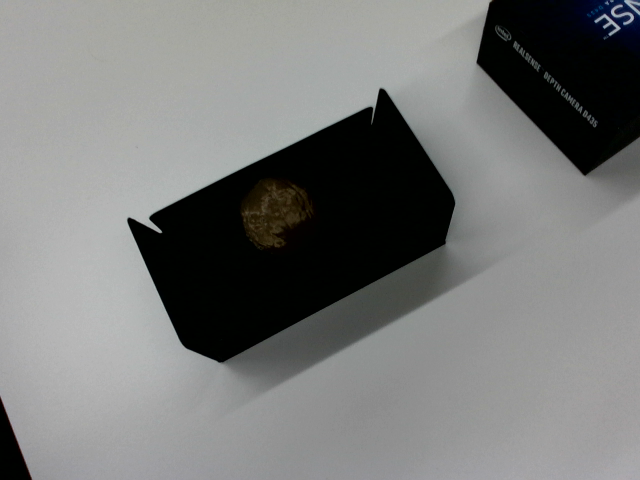walnut: (225, 163, 327, 265)
